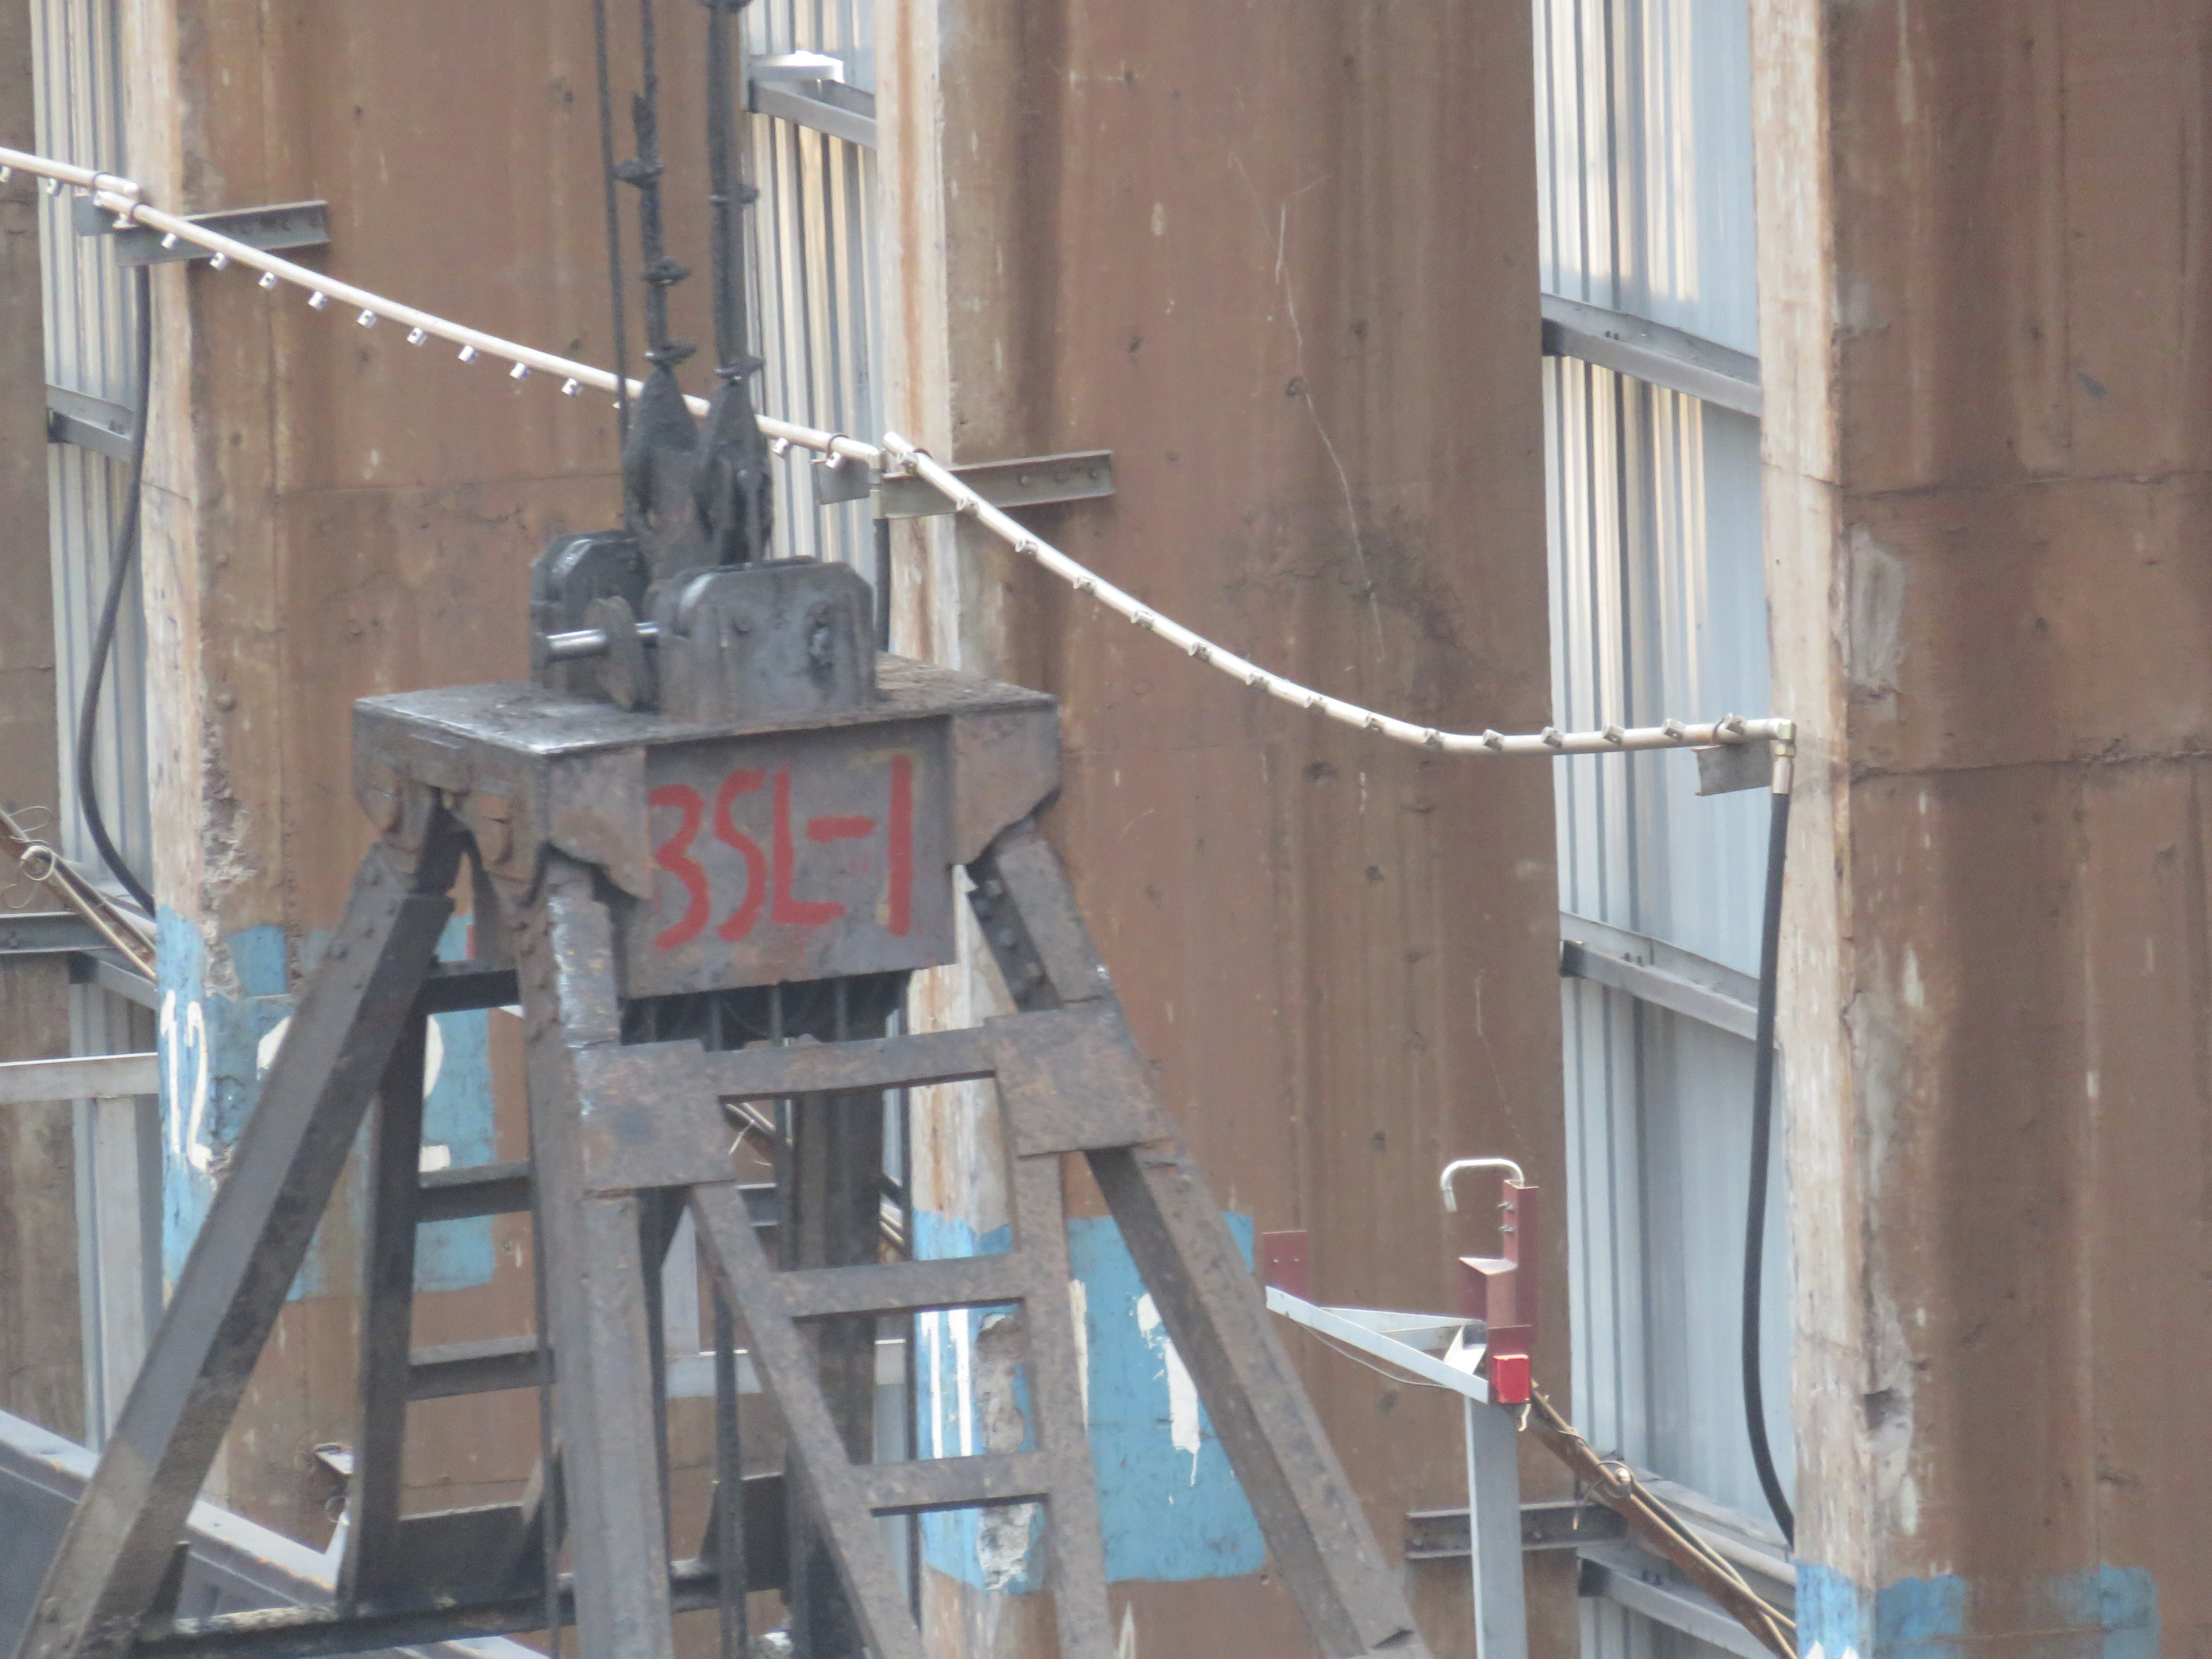grab: (75, 427, 1437, 1659)
